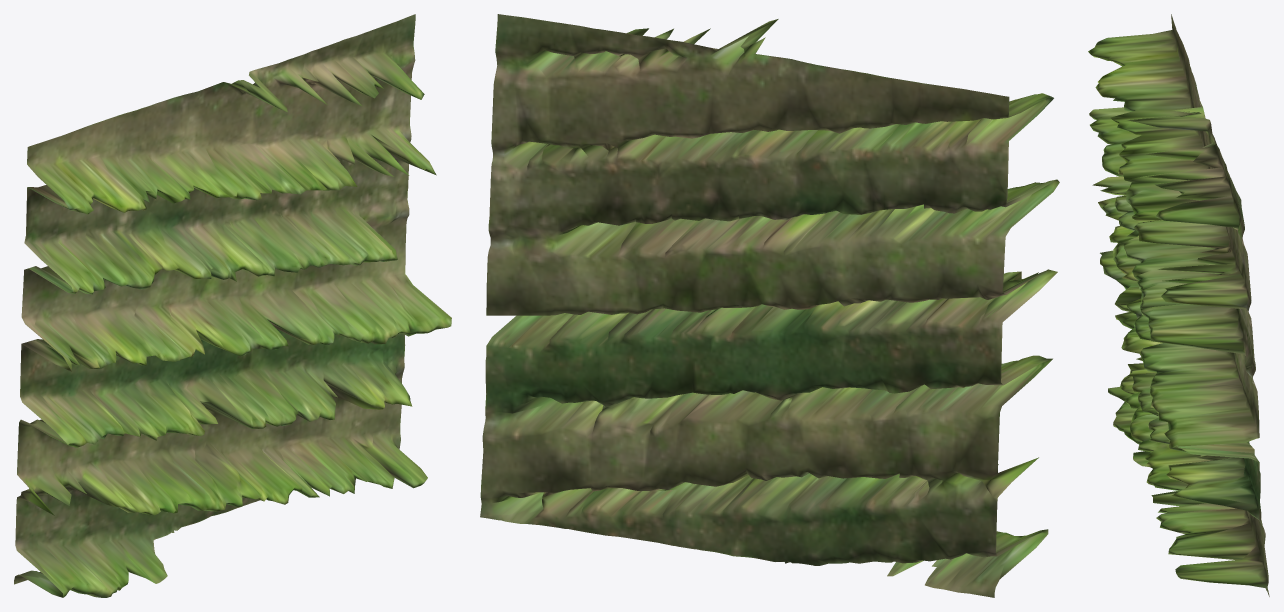
The model's file is map_80_0.obj.
The picture shows the model from 3 angles, left to right: view 1: azimuth 30°, elevation 25°; view 2: azimuth 150°, elevation 25°; view 3: azimuth 270°, elevation 25°; orthographic projection. The views are drawn at different scales.
Visible parts, largest first — view 1: map_80_0.obj; view 2: map_80_0.obj; view 3: map_80_0.obj.
Boxes of the visible parts, x1,y1,x2,y2 form: map_80_0.obj: (14, 14, 451, 597); map_80_0.obj: (480, 14, 1059, 597); map_80_0.obj: (1088, 14, 1269, 596).
Size of the model in its own units: 10 by 10 by 4.14.
1 material, 1 textured.
